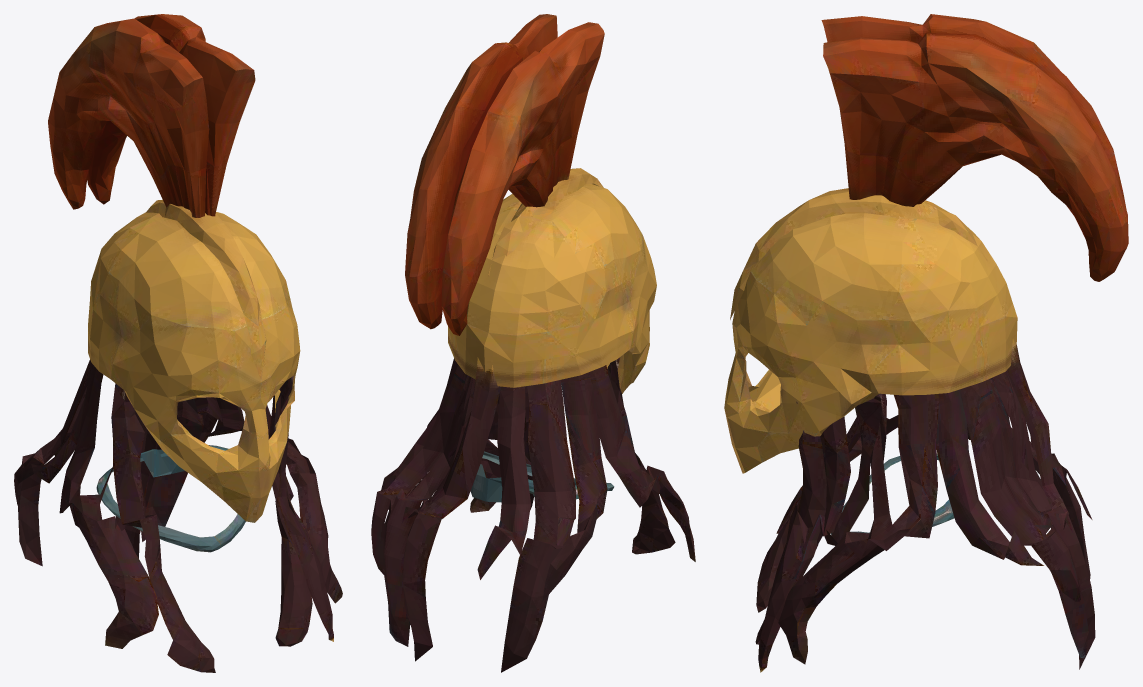
The model's file is ewm_t2gladiatorf_hat.glb.
The picture shows the model from 3 angles, left to right: view 1: azimuth 30°, elevation 25°; view 2: azimuth 150°, elevation 25°; view 3: azimuth 270°, elevation 25°; orthographic projection. The views are drawn at different scales.
Visible parts, largest first — view 1: ewm_t2gladiatorf_hat; view 2: ewm_t2gladiatorf_hat; view 3: ewm_t2gladiatorf_hat.
Part boxes in pixels (x1=…): ewm_t2gladiatorf_hat: x1=14, y1=14, x2=342, y2=672; ewm_t2gladiatorf_hat: x1=371, y1=14, x2=695, y2=672; ewm_t2gladiatorf_hat: x1=724, y1=14, x2=1128, y2=672.
Bounding box in the file's own units: 0.2861 × 0.6876 × 0.4047.
1 material, 1 textured.
